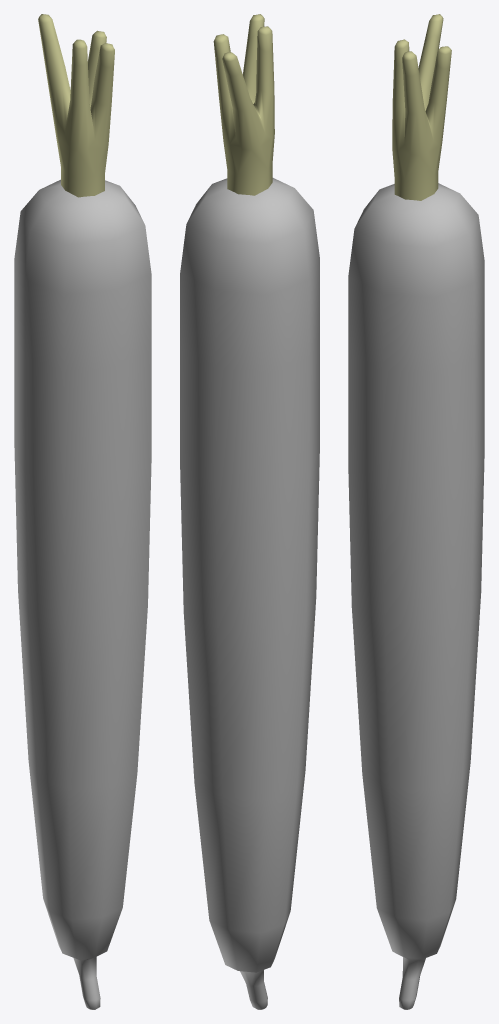
The model's file is carrot.fbx.
The picture shows the model from 3 angles, left to right: view 1: azimuth 30°, elevation 25°; view 2: azimuth 150°, elevation 25°; view 3: azimuth 330°, elevation 25°; orthographic projection. The views are drawn at different scales.
Parts seen in each view (by area): view 1: Box001, Box002; view 2: Box001, Box002; view 3: Box001, Box002.
Part boxes in pixels (bbox=[...]): Box001: bbox=[14, 179, 151, 1009]; Box002: bbox=[38, 14, 114, 197]; Box001: bbox=[180, 178, 319, 1009]; Box002: bbox=[213, 14, 274, 195]; Box001: bbox=[348, 183, 484, 1009]; Box002: bbox=[392, 14, 451, 200].
Size of the model in its own units: 3 by 23.91 by 3.
